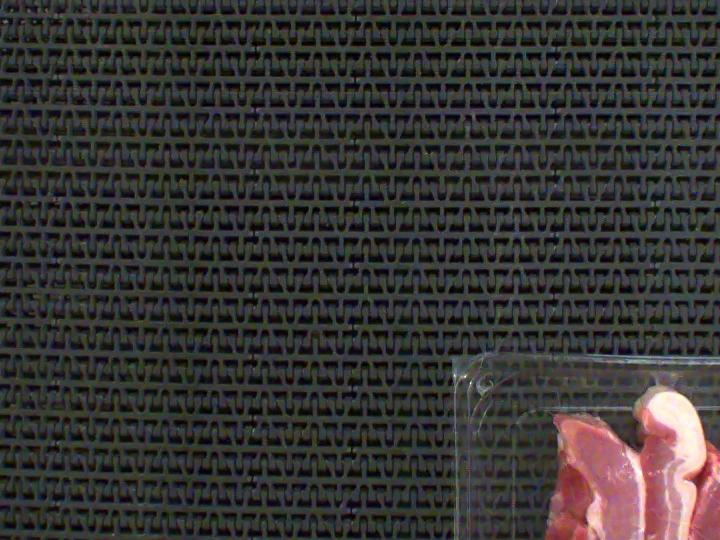packaging-error: (646, 368, 684, 392)
